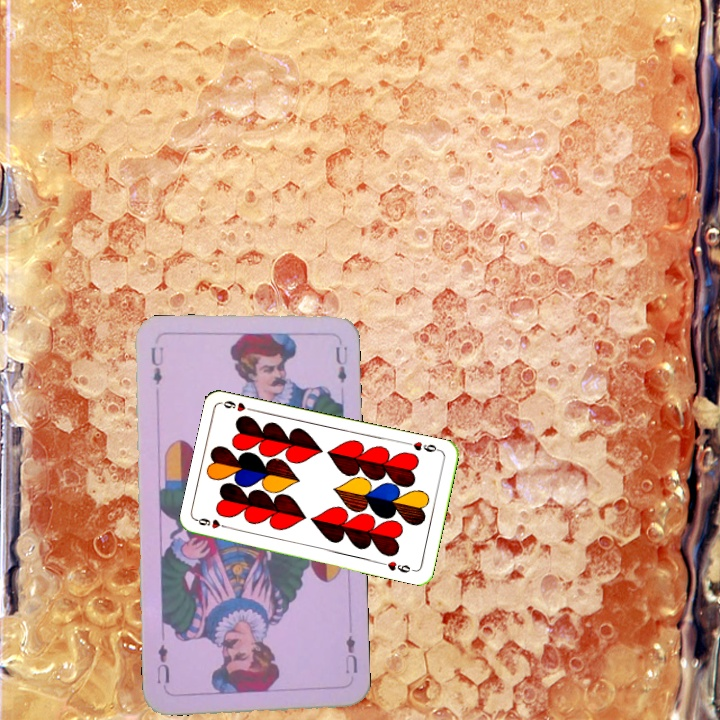EU: (341, 631, 361, 677), (147, 342, 166, 387)
H9: (194, 514, 234, 532), (403, 438, 443, 455)
